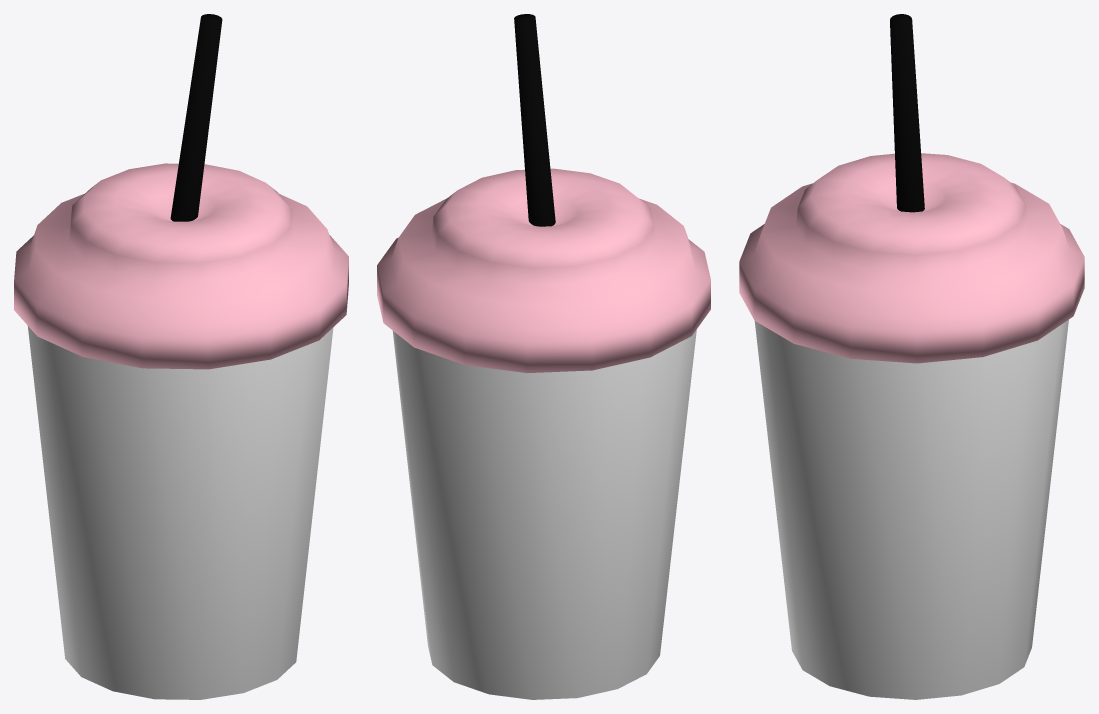
Rendered from TableDecor_03_PastelPop.glb.
3 views of the same model, side by side, from view 1: azimuth 30°, elevation 25°; view 2: azimuth 150°, elevation 25°; view 3: azimuth 270°, elevation 25° (orthographic). The views are drawn at different scales.
Parts seen in each view (by area): view 1: TableDecor_03_PastelPop; view 2: TableDecor_03_PastelPop; view 3: TableDecor_03_PastelPop.
Boxes of the visible parts, box(x1,y1,x2,y2) form: TableDecor_03_PastelPop: box(14, 14, 348, 699); TableDecor_03_PastelPop: box(377, 14, 710, 699); TableDecor_03_PastelPop: box(739, 14, 1084, 699).
Bounding box in the file's own units: 0.0845 × 0.1736 × 0.0845.
Materials: 1 (1 with a texture image).
